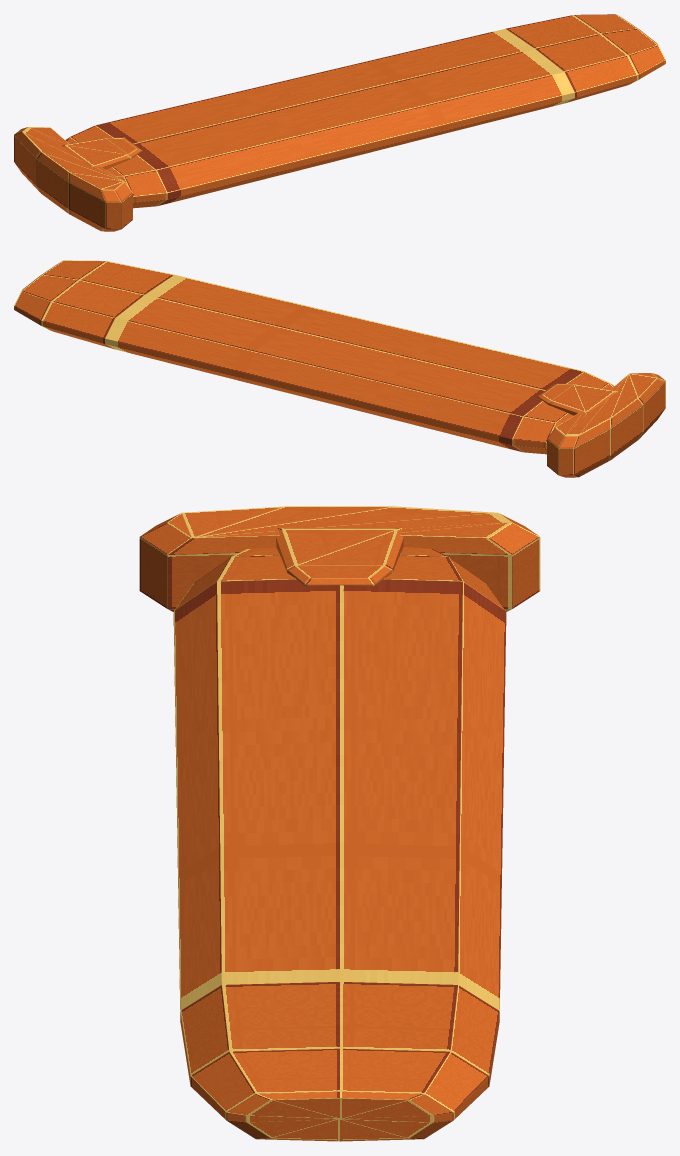
Rendered from bench_xuanyue_zhenshan_sword_1_hot.obj.
3 views of the same model, one above another, from view 1: azimuth 30°, elevation 25°; view 2: azimuth 150°, elevation 25°; view 3: azimuth 270°, elevation 25° (orthographic). The views are drawn at different scales.
Parts seen in each view (by area): view 1: geometry; view 2: geometry; view 3: geometry.
Boxes of the visible parts, <box> form: geometry: <box>14,14,665,231</box>; geometry: <box>14,260,665,477</box>; geometry: <box>139,506,540,1141</box>.
Bounding box in the file's own units: 0.75 × 0.0524 × 0.2214.
